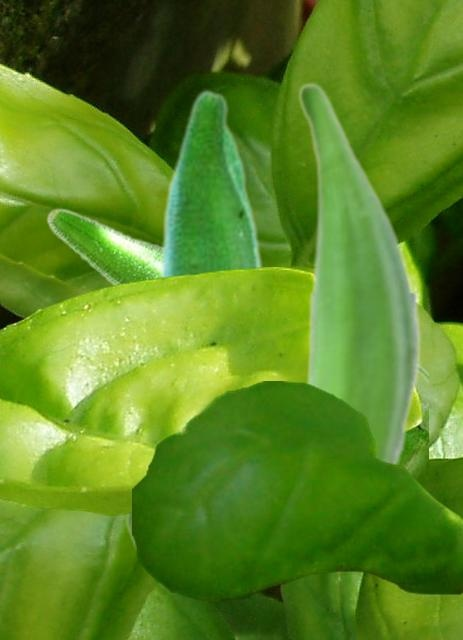okra: (45, 207, 427, 489), (124, 88, 268, 553), (296, 81, 421, 463)
